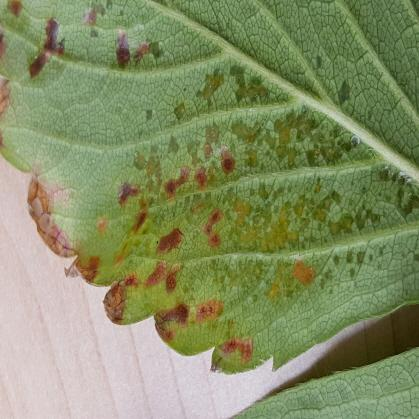Angular Leafspot: (0, 0, 418, 376)
